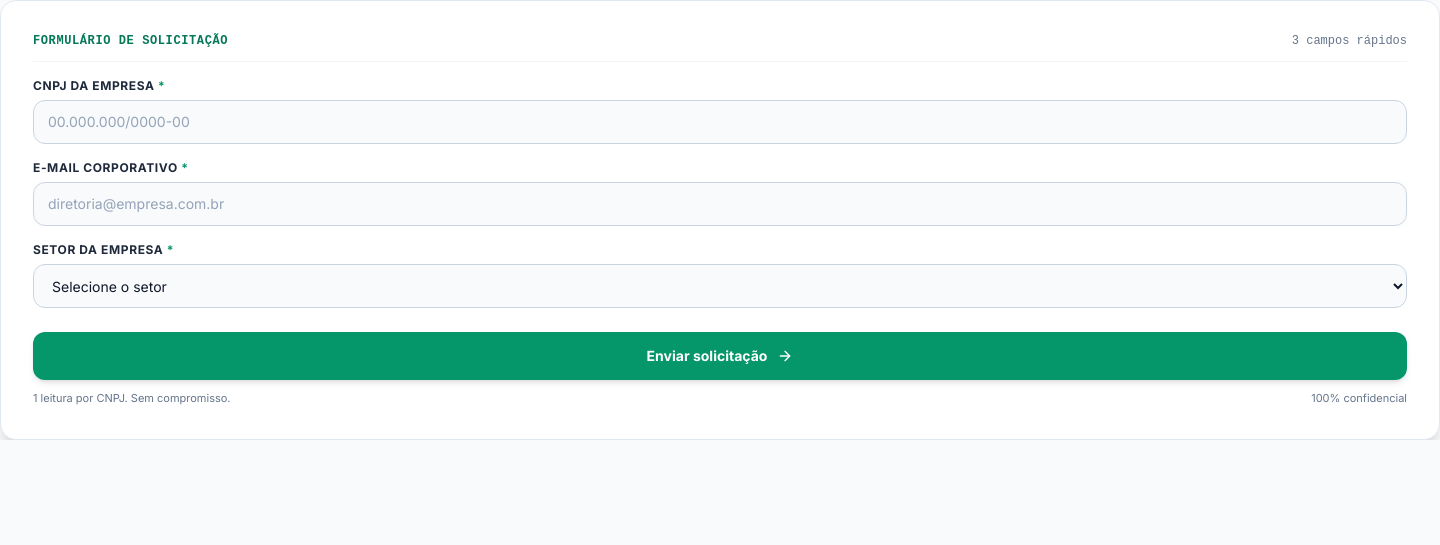
Oferta Orbis LPF — Leitura Pré-Faturamento › exibe mensagem amigável quando o CNPJ já solicitou a leitura gratuita (limite de 1 por CNPJ)
This screenshot has width=1440, height=545.
# Preenche com CNPJ válido matematicamente
Type "14.882.310/0001-91" into the field labelled "CNPJ da empresa *" at (720, 122), box [33,100,1407,144]
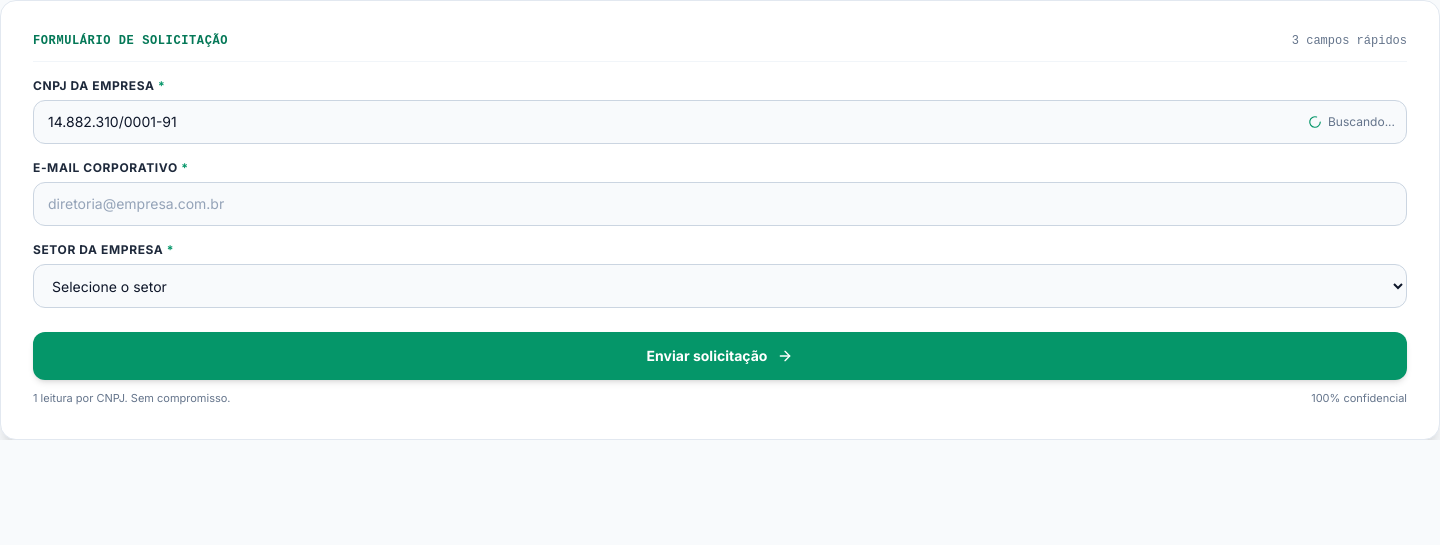
Type "contato@metalurgicateste.com" into the field labelled "E-mail corporativo *" at (720, 204), box [33,182,1407,226]
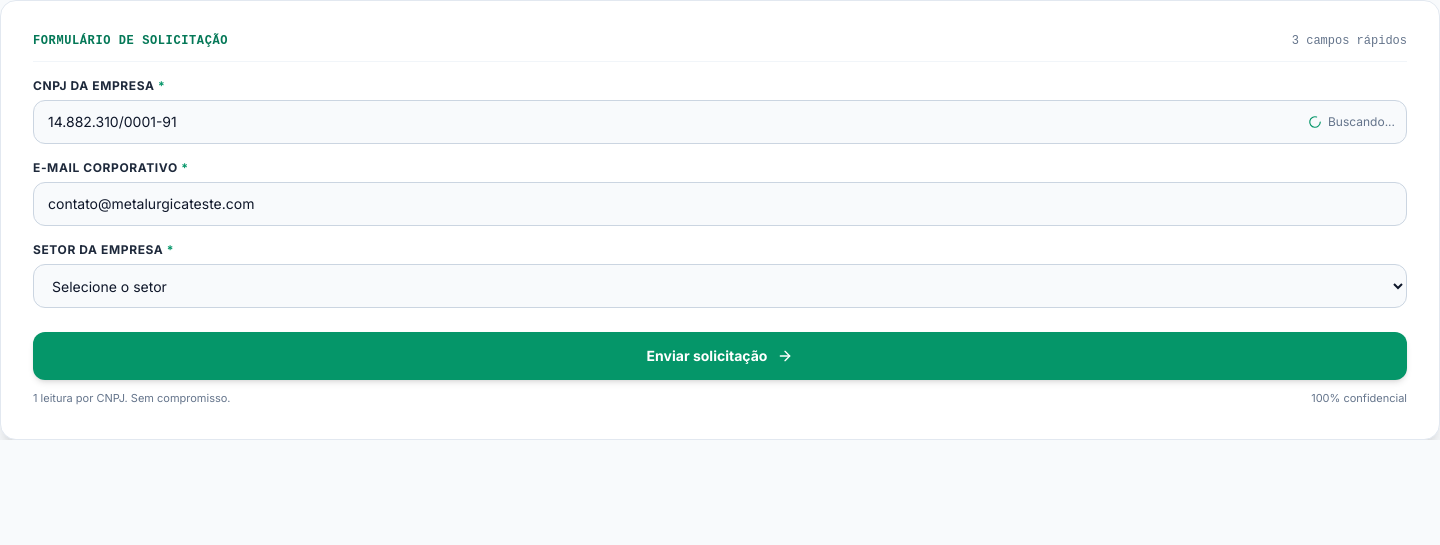
Select "Aço" in the dropdown labelled "Setor da empresa *" at (720, 286), box [33,264,1407,308]
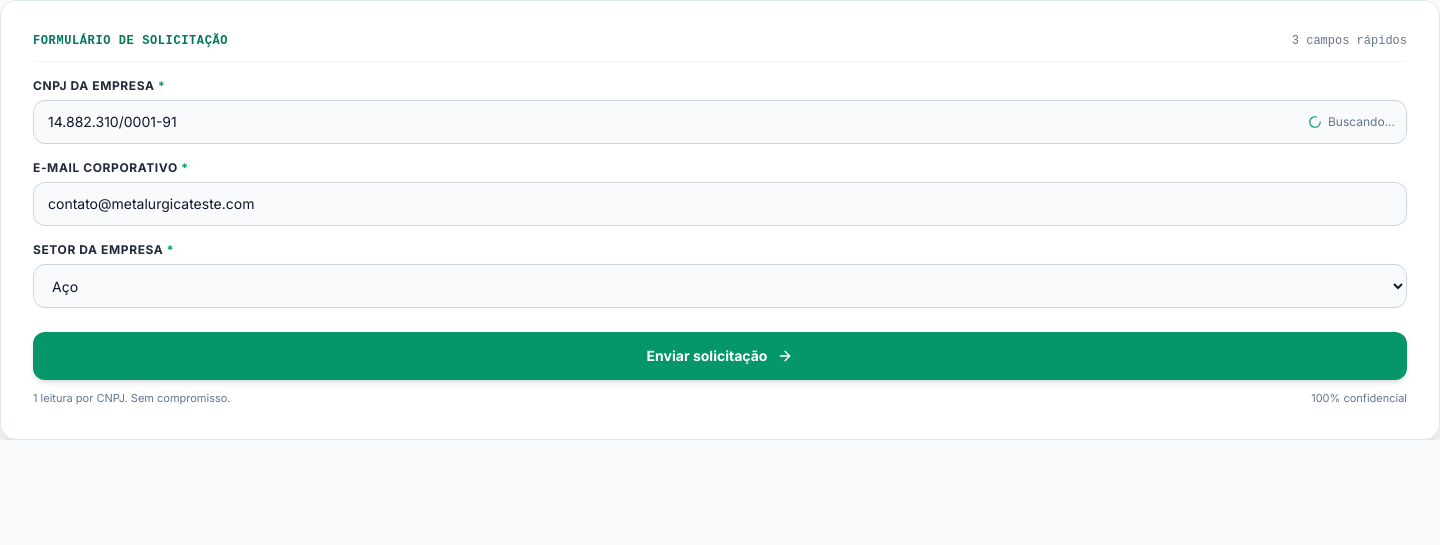
Click the button "Enviar solicitação" at (720, 356), box [33,332,1407,380]
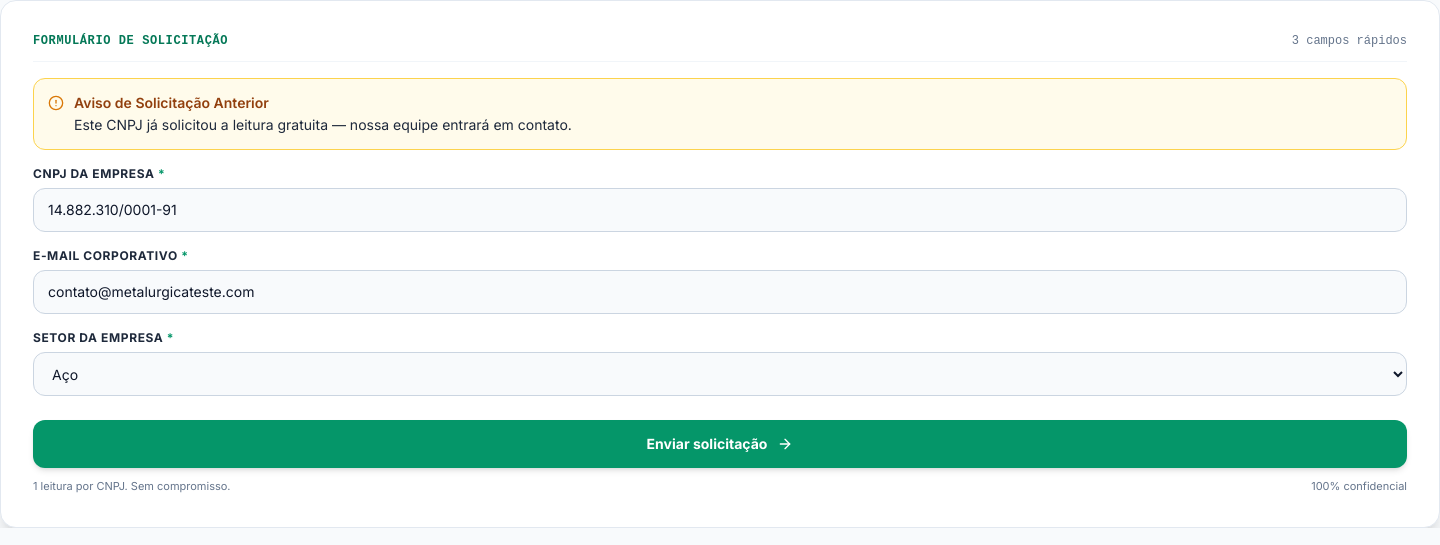
Expected: the element with test id "aviso-duplicado" is shown, [33,78,1407,150]
Expected: the text "Este CNPJ já solicitou a leitura gratuita — nossa equipe entrará em contato." is shown, [74,116,572,133]
